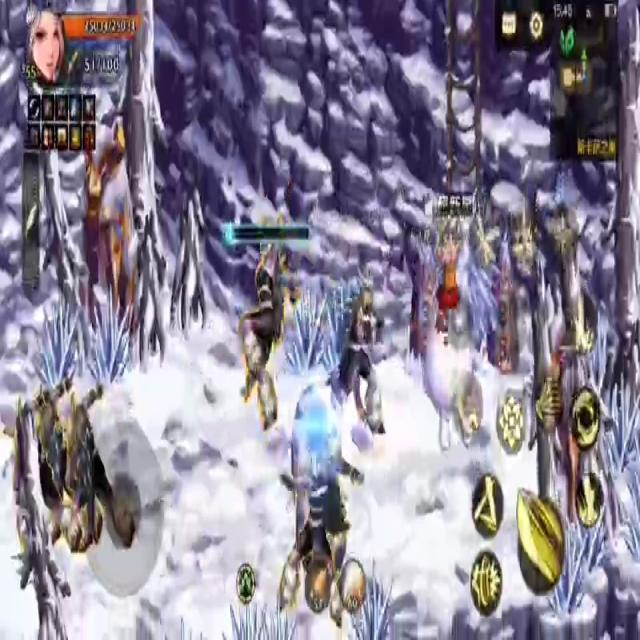player: (423, 248, 480, 454)
